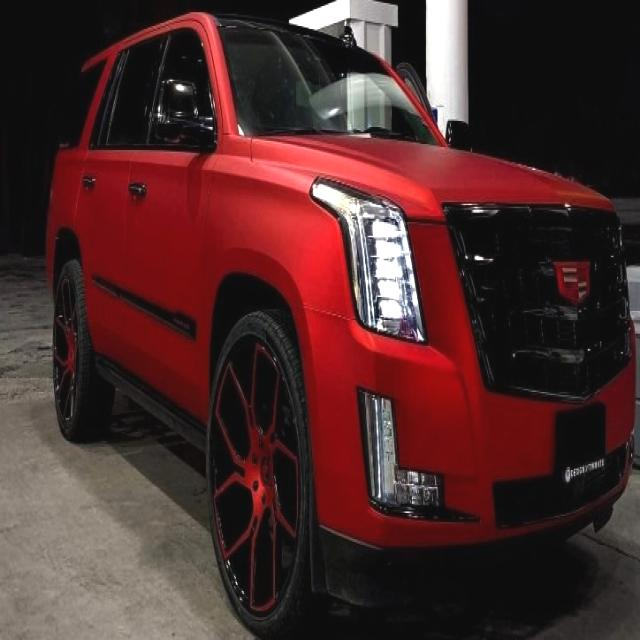red: (55, 19, 635, 575)
